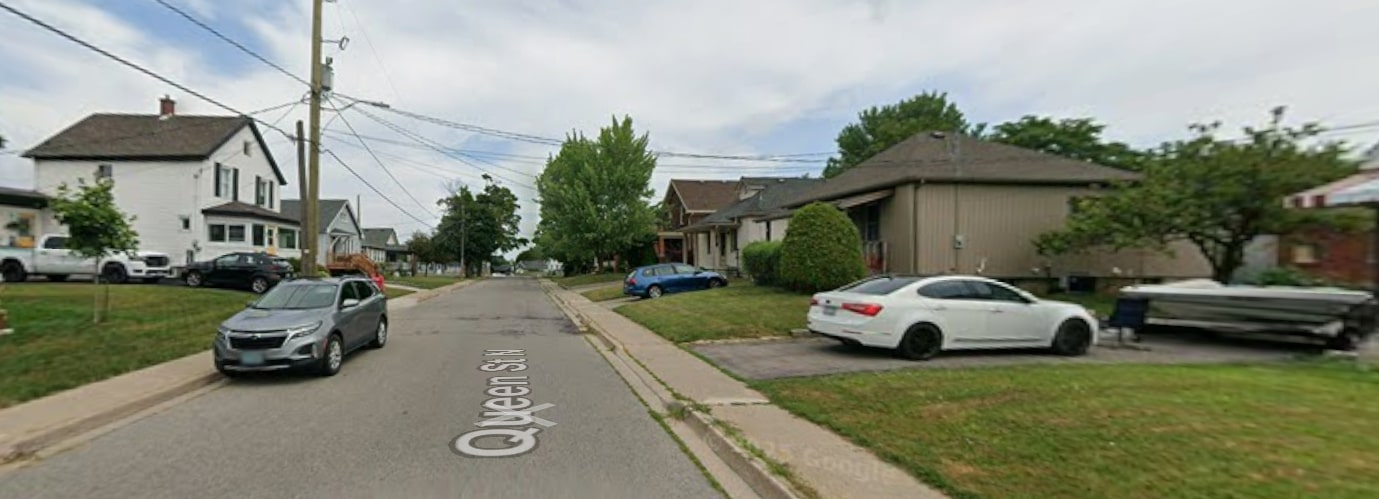cracks: (456, 311, 596, 340)
